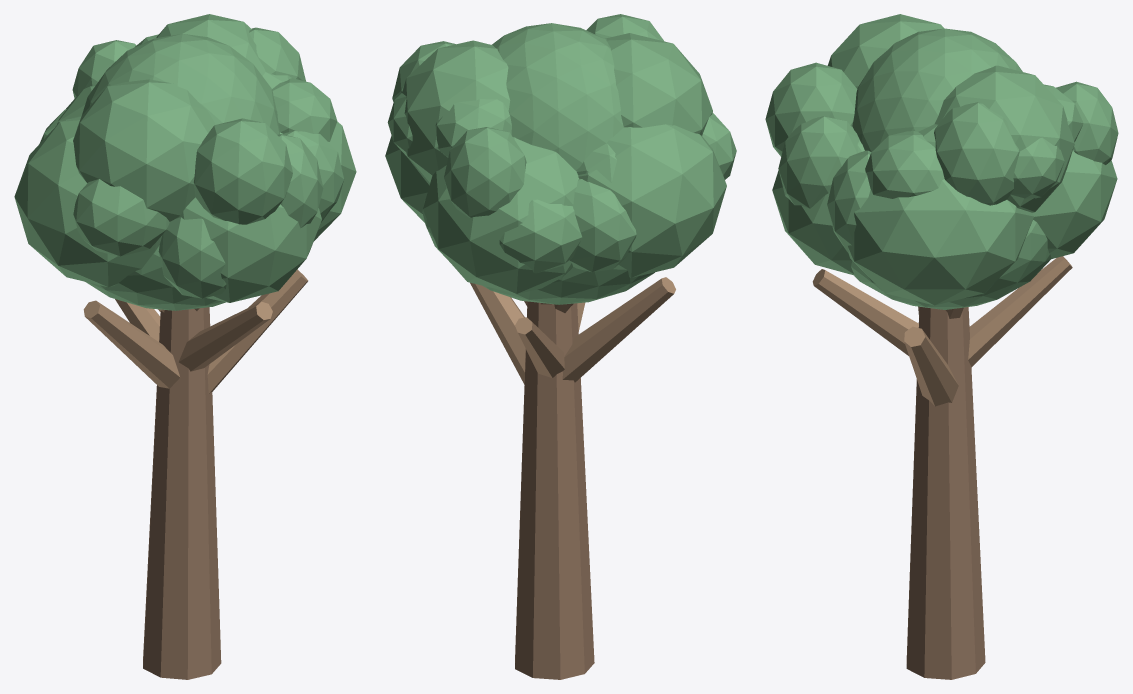
File: peumo.glb
3 renders of one model, left to right at view 1: azimuth 30°, elevation 25°; view 2: azimuth 150°, elevation 25°; view 3: azimuth 270°, elevation 25°, orthographic.
Parts seen in each view (by area): view 1: Follaje, Tronco, Ramas; view 2: Follaje, Tronco, Ramas; view 3: Follaje, Tronco, Ramas.
Boxes of the visible parts, box(x1,y1,x2,y2) form: Follaje: box(14, 14, 356, 310); Tronco: box(143, 307, 221, 679); Ramas: box(83, 269, 308, 393); Follaje: box(385, 14, 736, 304); Tronco: box(515, 301, 594, 679); Ramas: box(470, 277, 675, 384); Follaje: box(765, 14, 1118, 309); Tronco: box(906, 306, 985, 679); Ramas: box(812, 256, 1072, 406).
Size of the model in its own units: 1.79 by 3.4 by 1.74.
